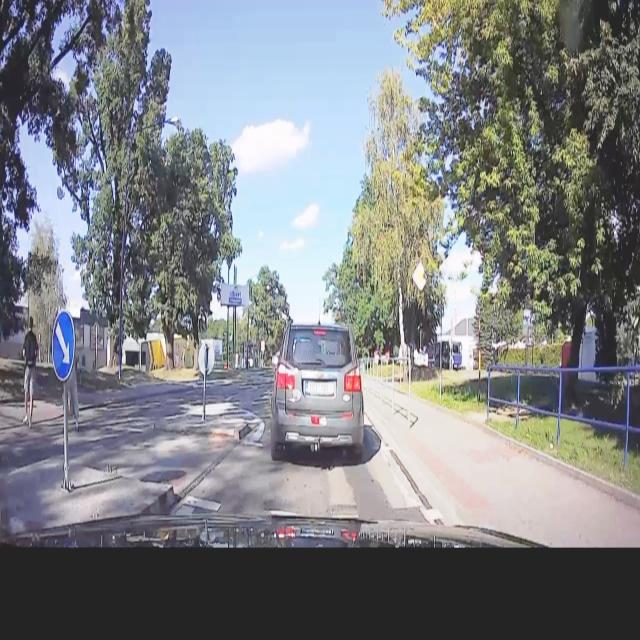Priority road: (410, 259, 430, 295)
